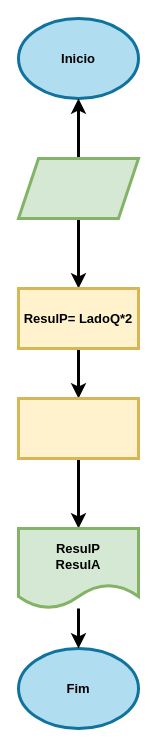
The diagram is 157 pixels wide and 747 high, and some of its shapes have lost their labels. The shapes that lost their labels are listed below. From the top down, each one's box as (x1, y1, x2, y2) in pixels, then its label:
(16, 156, 140, 220): LadoQ
(16, 396, 140, 460): ResulA= Lado*2
